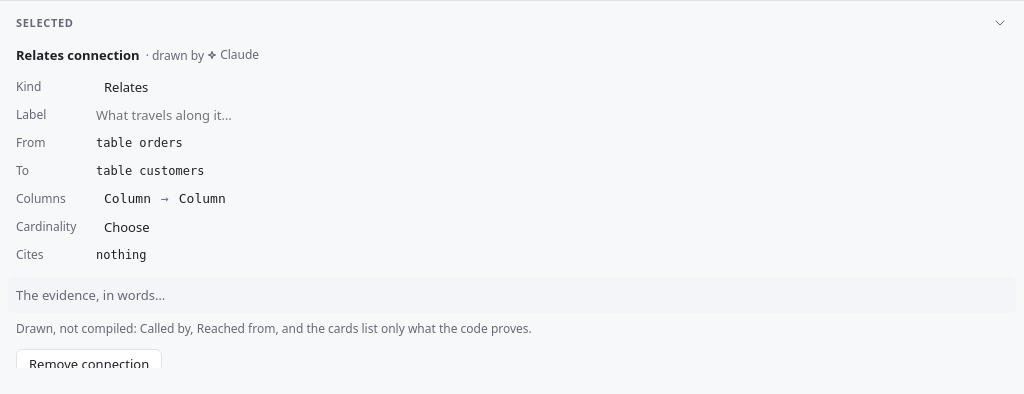
Test case: Selected · a relationship › sets its columns from the two tables' columns and its cardinality, each saved as one undo step
Click the 1st button "Column": (128, 199) left=96, top=185, right=159, bottom=213
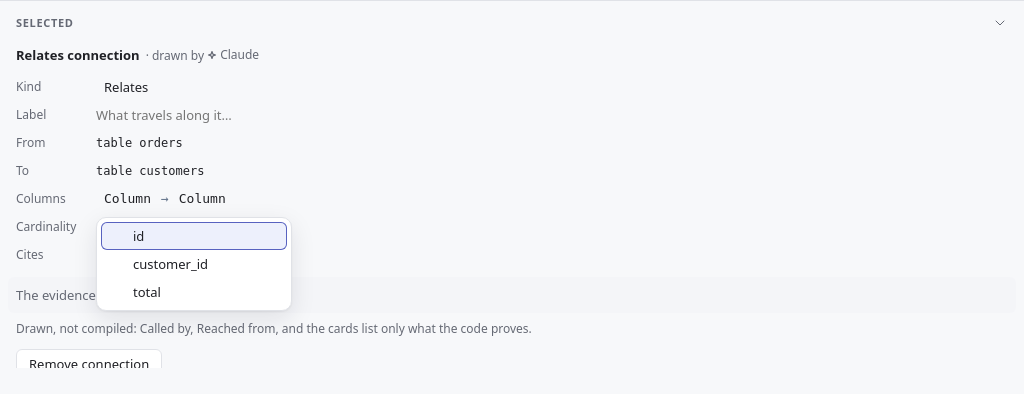
Click the menu item "customer_id": (170, 264) left=133, top=255, right=208, bottom=273
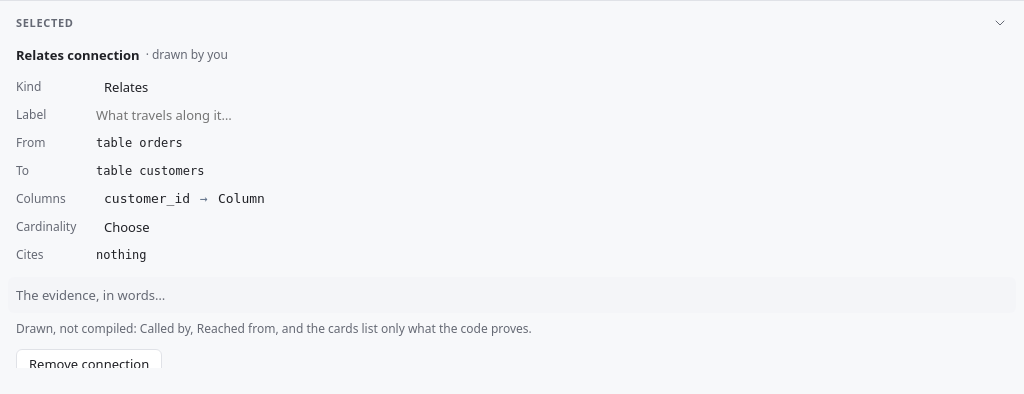
Click the button "Column": (241, 199) left=210, top=185, right=273, bottom=213
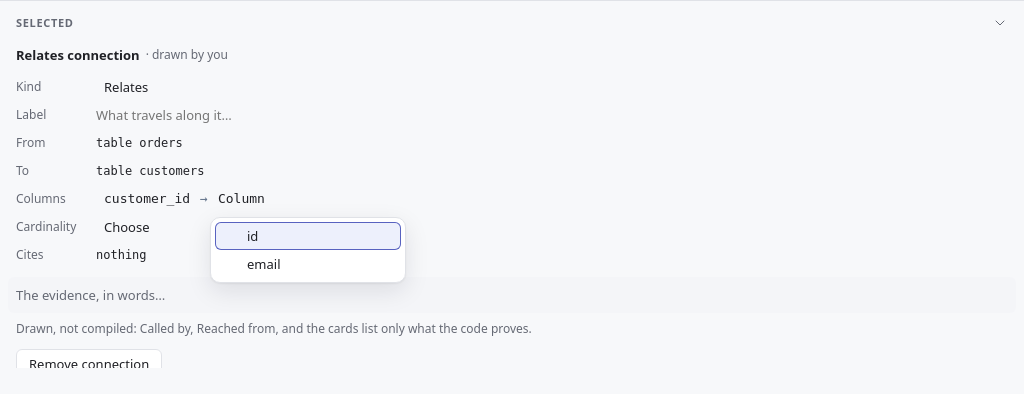
Click the menu item "id": (308, 236) left=215, top=222, right=401, bottom=250
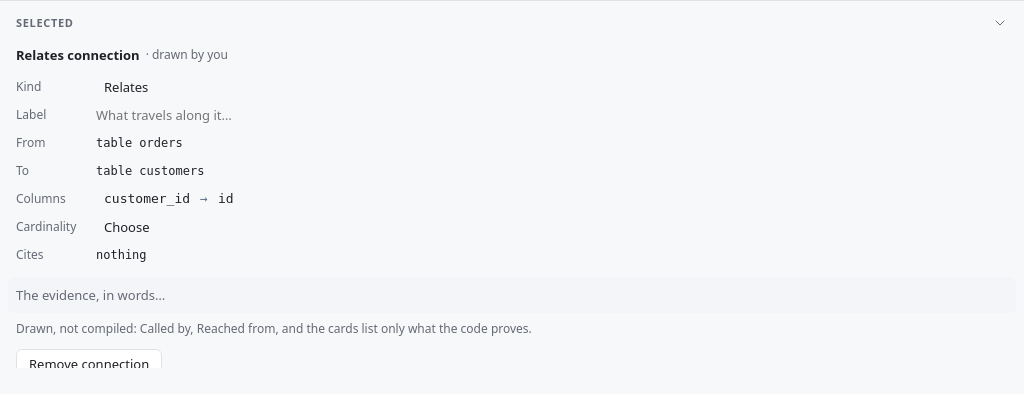
Click the button "Choose": (127, 227) left=96, top=213, right=158, bottom=241
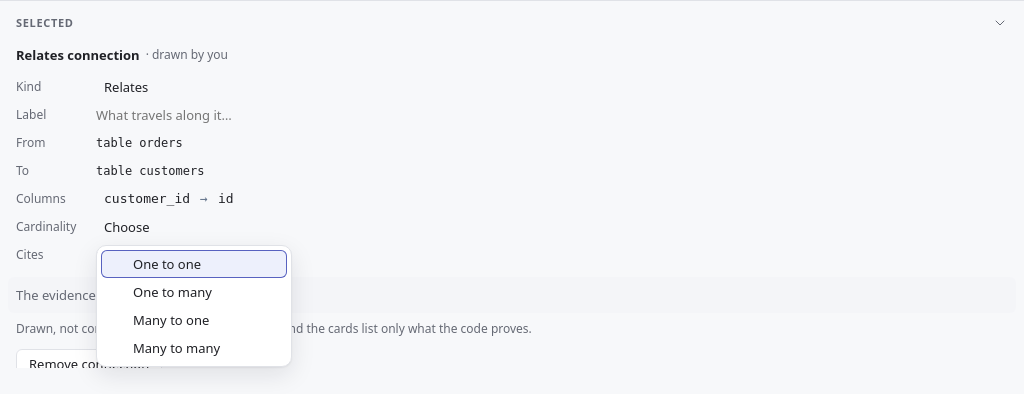
Click the menu item "Many to one": (171, 320) left=133, top=311, right=209, bottom=329
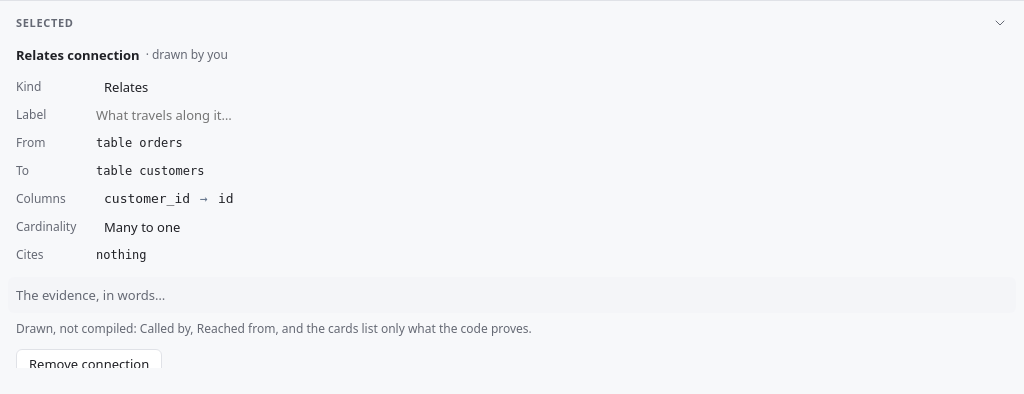
Expected: the button "Many to one" is shown, left=96, top=213, right=188, bottom=241
